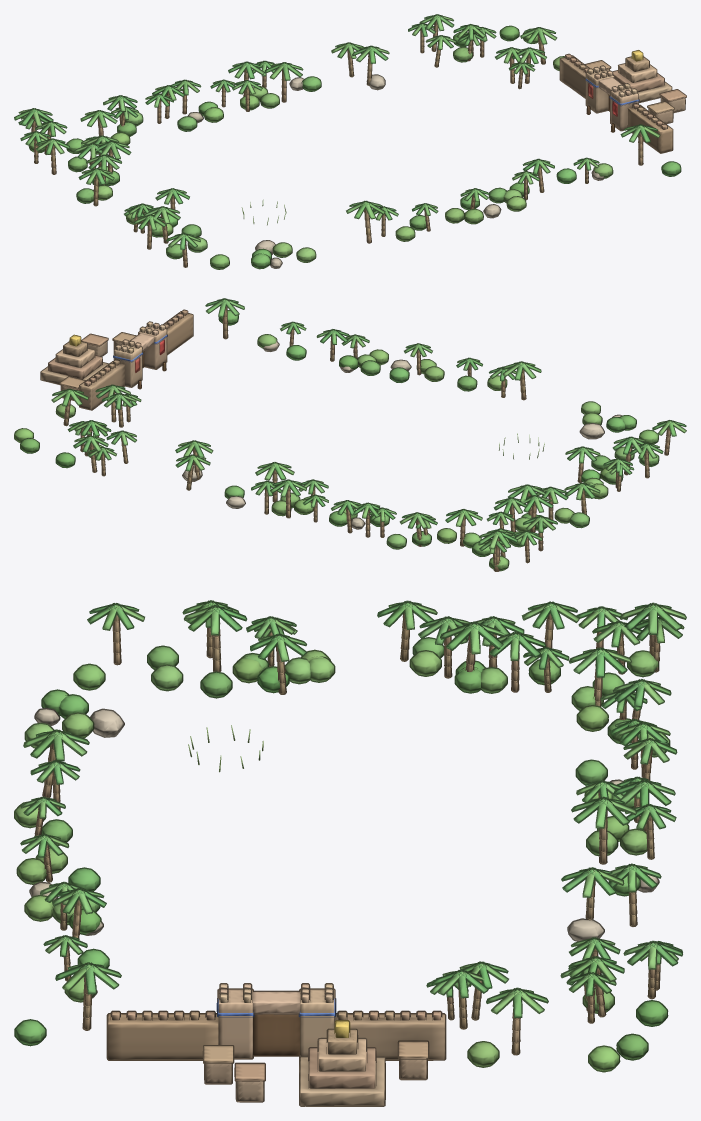
File: river_delta.glb
3 renders of one model, top to bottom at view 1: azimuth 30°, elevation 25°; view 2: azimuth 150°, elevation 25°; view 3: azimuth 270°, elevation 25°, orthographic. The views are drawn at different scales.
Visible parts, largest first — view 1: Baked_matte, Baked_matte_Outline; view 2: Baked_matte, Baked_matte_Outline; view 3: Baked_matte, Baked_matte_Outline.
Boxes of the visible parts, x1,y1,x2,y2 form: Baked_matte: (14,15,686,269); Baked_matte_Outline: (14,14,686,269); Baked_matte: (14,299,685,571); Baked_matte_Outline: (14,298,686,571); Baked_matte: (15,601,685,1105); Baked_matte_Outline: (14,600,686,1106).
Bounding box in the file's own units: 41.45 × 3.15 × 25.55.
